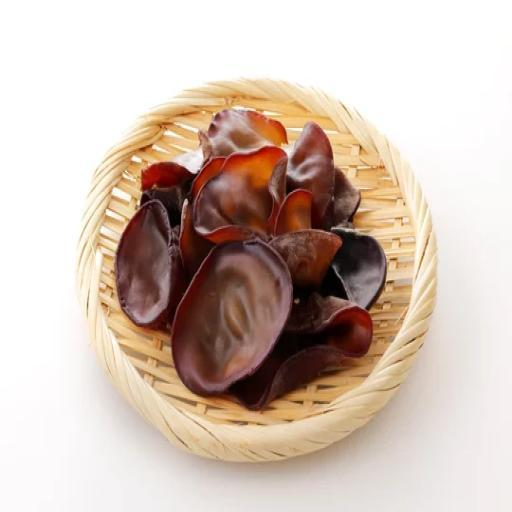mushroom: (110, 93, 387, 405)
